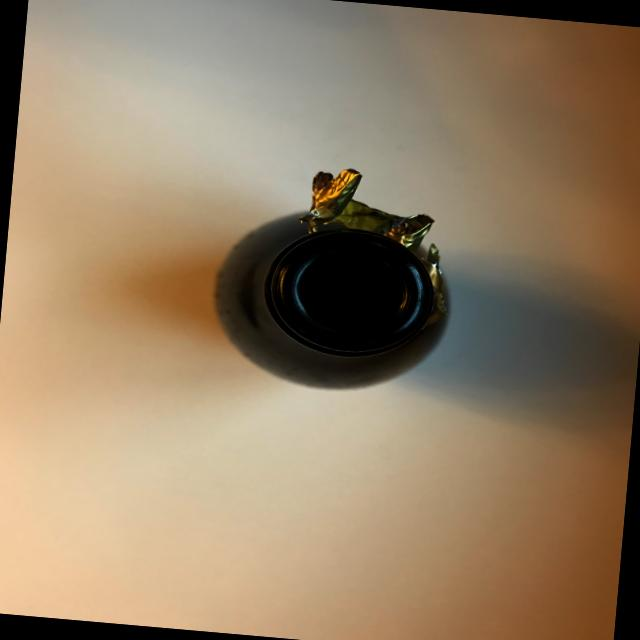Glass: (201, 144, 477, 408)
